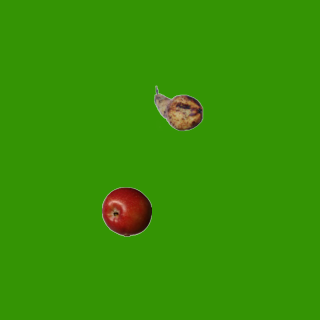Apple Braeburn: (101, 186, 151, 236)
Pear Abate: (153, 83, 203, 133)
